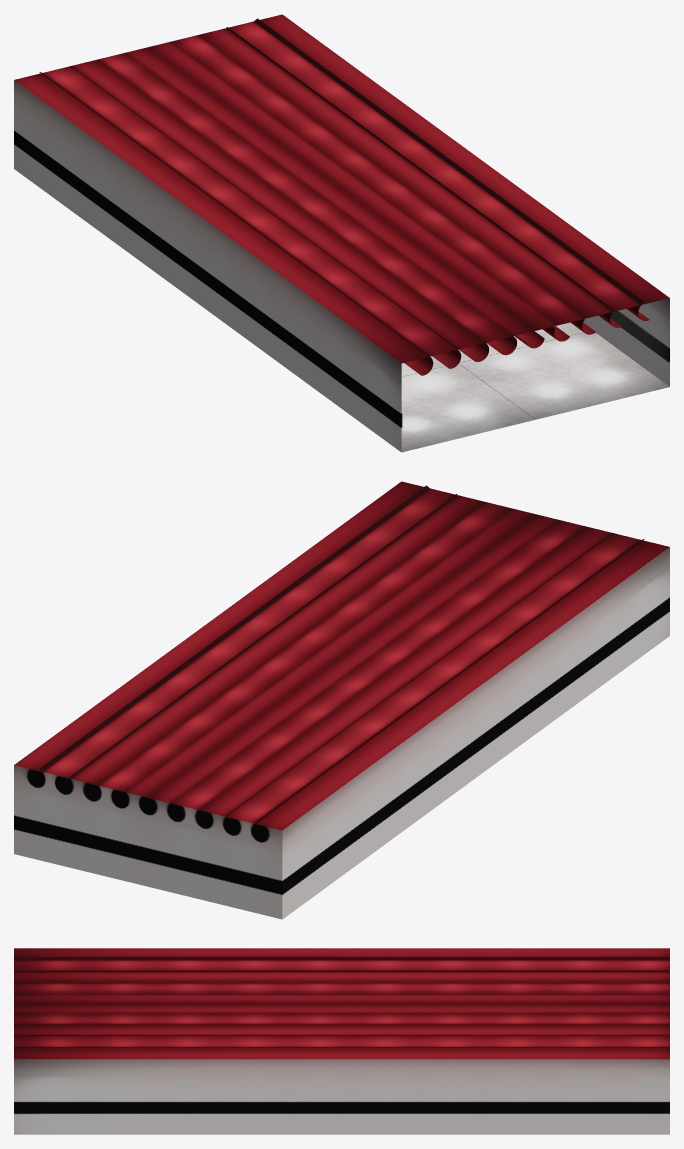
Rendered from env_indoor_06.glb.
3 renders of one model, top to bottom at view 1: azimuth 30°, elevation 25°; view 2: azimuth 150°, elevation 25°; view 3: azimuth 270°, elevation 25°, orthographic. The views are drawn at different scales.
Visible parts, largest first — view 1: ceiling, wall_l, floor, wall_r, details; view 2: ceiling, wall_l, wall_back; view 3: ceiling, wall_r.
Part boxes in pixels (x1,y1,x2,y2): ceiling: (14, 14, 669, 375); wall_l: (14, 80, 401, 452); floor: (401, 322, 669, 452); wall_r: (583, 298, 669, 386); details: (401, 310, 669, 427); ceiling: (14, 481, 669, 830); wall_l: (282, 547, 669, 919); wall_back: (14, 765, 282, 919); ceiling: (14, 948, 669, 1059); wall_r: (14, 1059, 669, 1134).
Size of the model in its own units: 12 by 3.89 by 30.
Materials: 7 (6 with a texture image).
